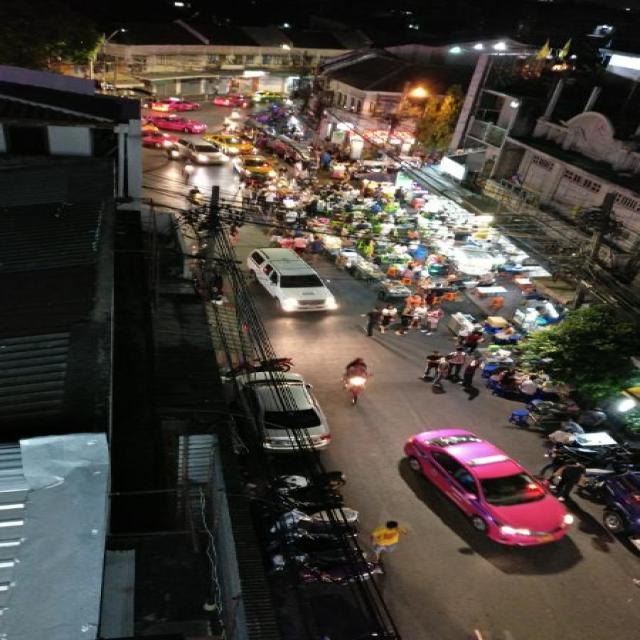Motorbike: (245, 338, 302, 376)
People: (437, 339, 488, 409), (410, 299, 473, 347), (363, 516, 416, 572), (363, 293, 418, 340), (489, 399, 537, 430), (342, 346, 370, 372)
car: (415, 426, 558, 569), (249, 240, 346, 333), (240, 370, 334, 465), (562, 474, 640, 557), (133, 116, 189, 162), (169, 138, 238, 168), (202, 83, 253, 112), (166, 111, 196, 143), (169, 90, 200, 111)
